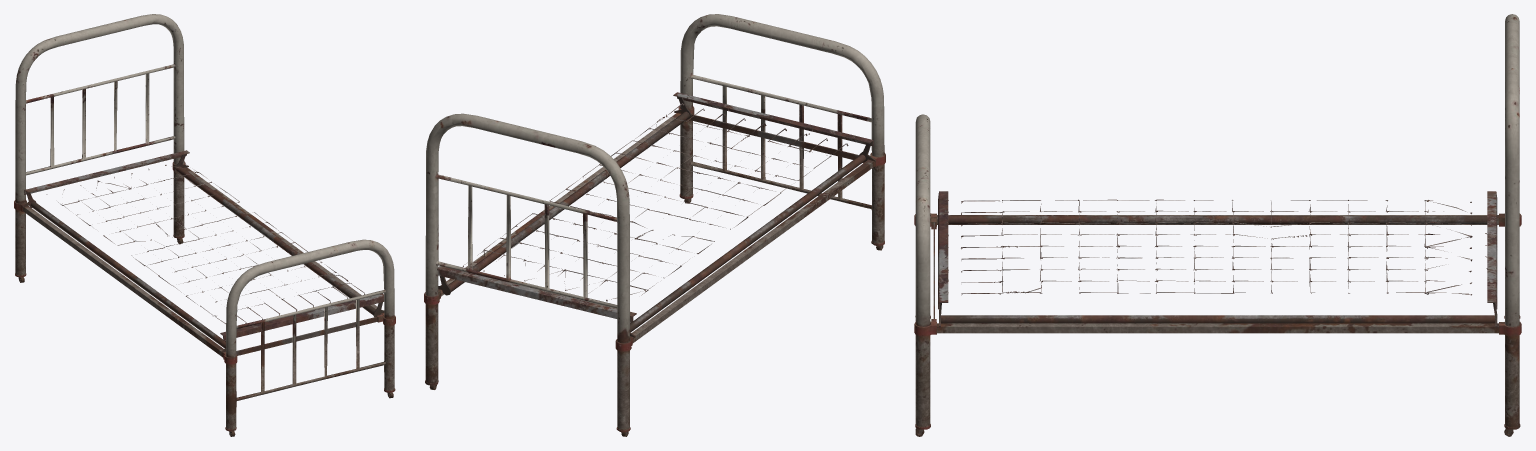
Rendered from iron_bed.glb.
The picture shows the model from 3 angles, left to right: view 1: azimuth 30°, elevation 25°; view 2: azimuth 150°, elevation 25°; view 3: azimuth 270°, elevation 25°; orthographic projection. The views are drawn at different scales.
Visible parts, largest first — view 1: old_bed_frame; view 2: old_bed_frame; view 3: old_bed_frame.
Boxes of the visible parts, left/top/right/bottom form: old_bed_frame: left=14, top=14, right=395, bottom=436; old_bed_frame: left=424, top=14, right=885, bottom=436; old_bed_frame: left=914, top=14, right=1521, bottom=436.
Bounding box in the file's own units: 0.9047 × 1.2 × 2.
1 material, 1 textured.
